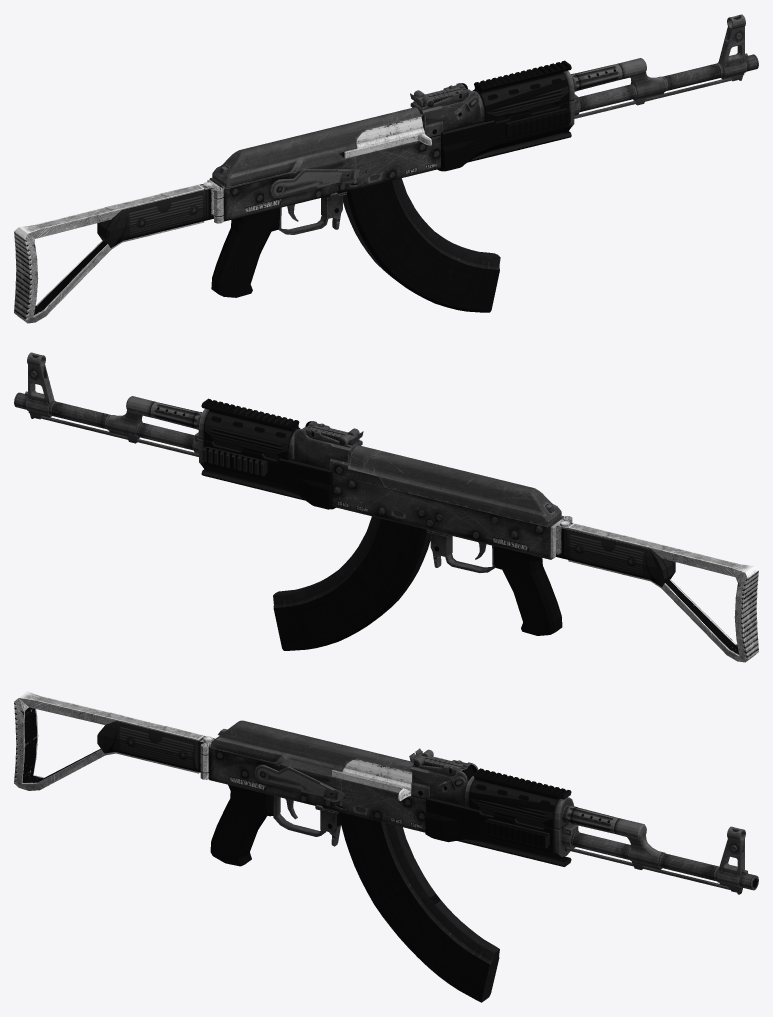
The picture shows the model from 3 angles, top to bottom: view 1: azimuth 30°, elevation 25°; view 2: azimuth 150°, elevation 25°; view 3: azimuth 330°, elevation 25°; orthographic projection.
Parts seen in each view (by area): view 1: assaultrifle, assaultrifle_mag; view 2: assaultrifle, assaultrifle_mag; view 3: assaultrifle, assaultrifle_mag.
Boxes of the visible parts, x1,y1,x2,y2 form: assaultrifle: [14, 14, 758, 323]; assaultrifle_mag: [343, 178, 500, 312]; assaultrifle: [14, 352, 758, 662]; assaultrifle_mag: [273, 516, 430, 650]; assaultrifle: [14, 691, 758, 894]; assaultrifle_mag: [338, 811, 499, 1002].
Bounding box in the file's own units: 0.8874 × 0.2681 × 0.0592.
7 materials, 7 textured.
